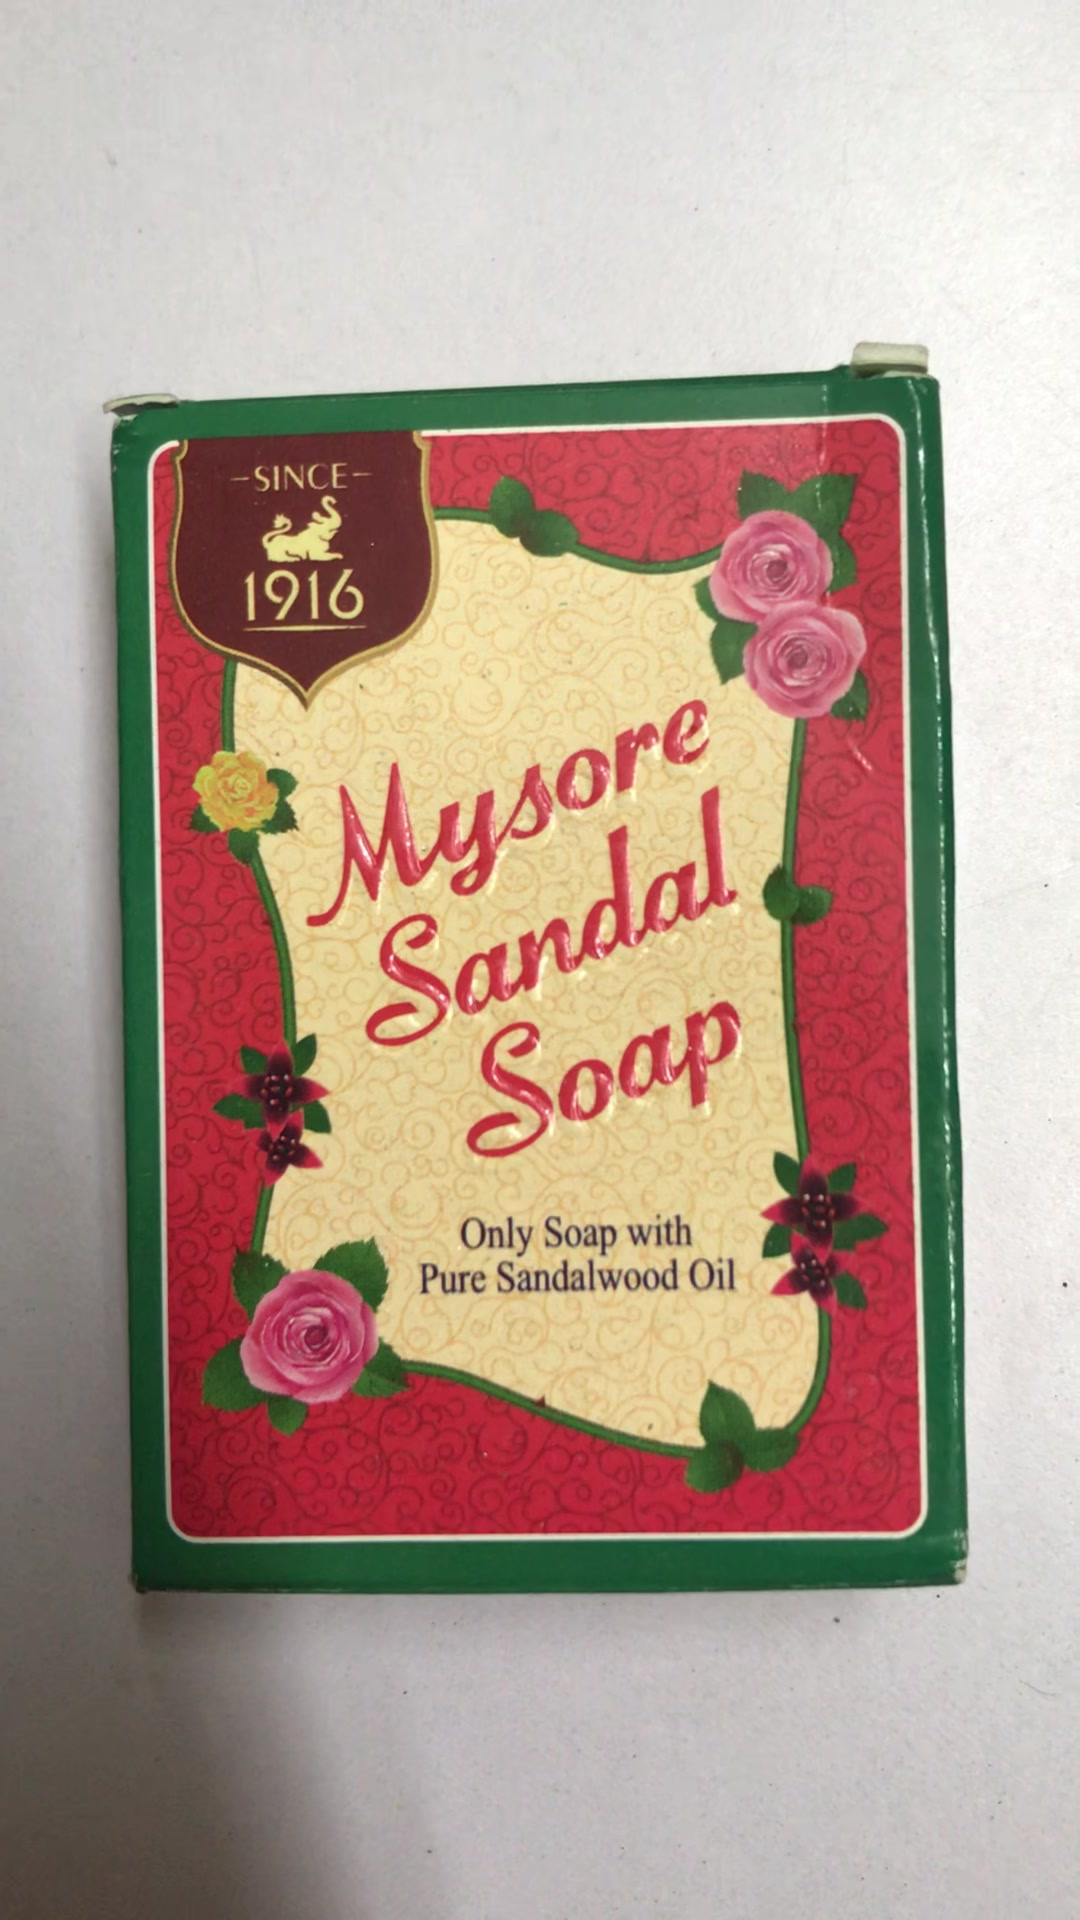mysore sandal soap: (113, 361, 961, 1590)
